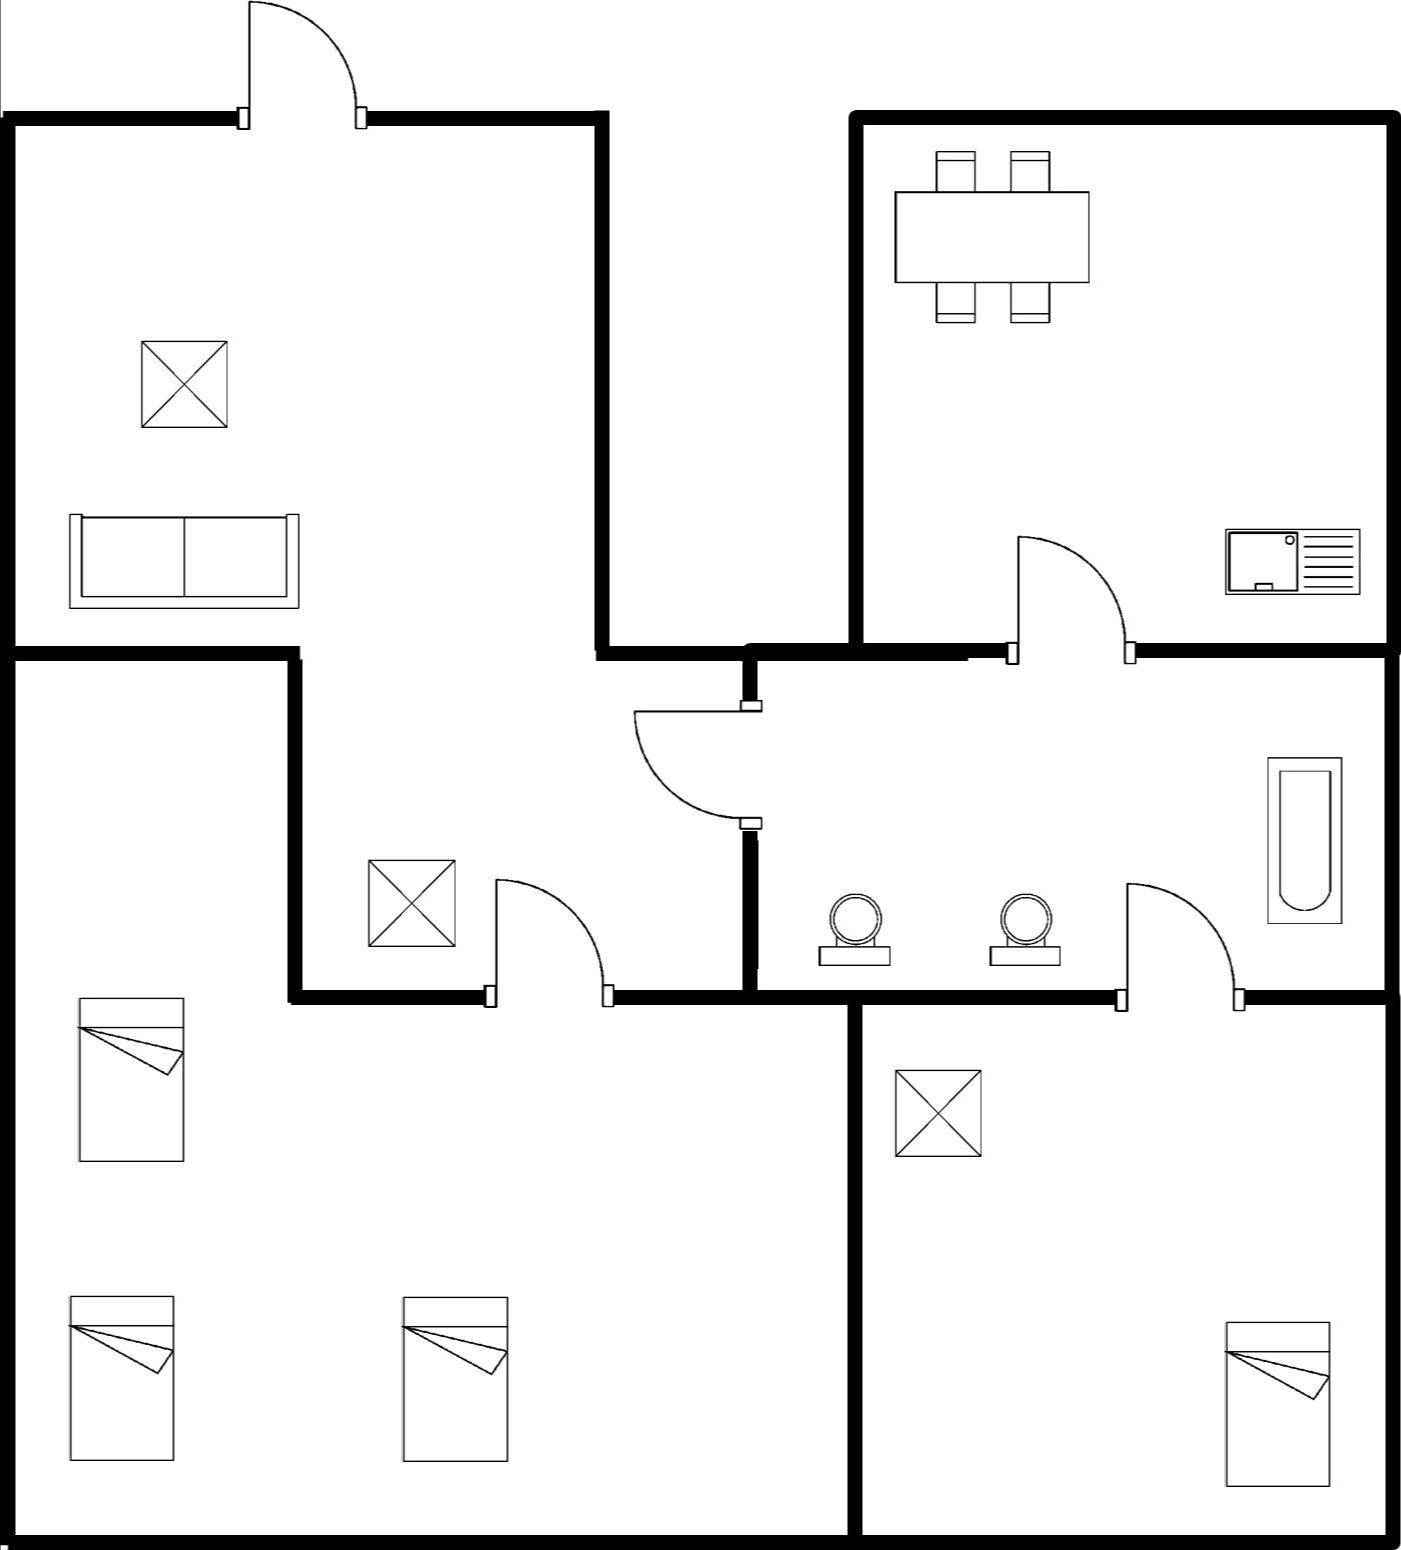bed: (62, 988, 196, 1177), (390, 1281, 518, 1477), (58, 1280, 185, 1474), (1211, 1303, 1338, 1497)
dining_table: (877, 140, 1097, 336)
sink: (1209, 521, 1369, 613)
sofa: (53, 497, 308, 622)
toilet: (799, 882, 908, 978), (973, 878, 1072, 975)
tub: (1248, 740, 1352, 937)
